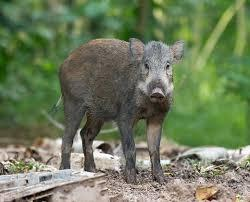wildboar: (47, 34, 189, 186)
